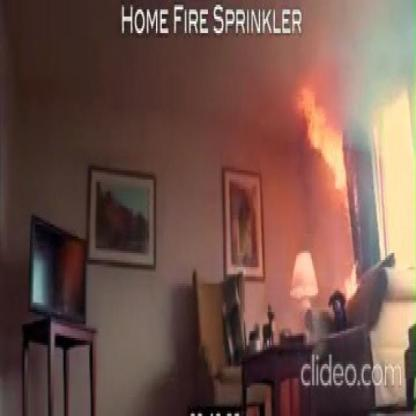Fire: (294, 82, 350, 210), (335, 260, 363, 300)
